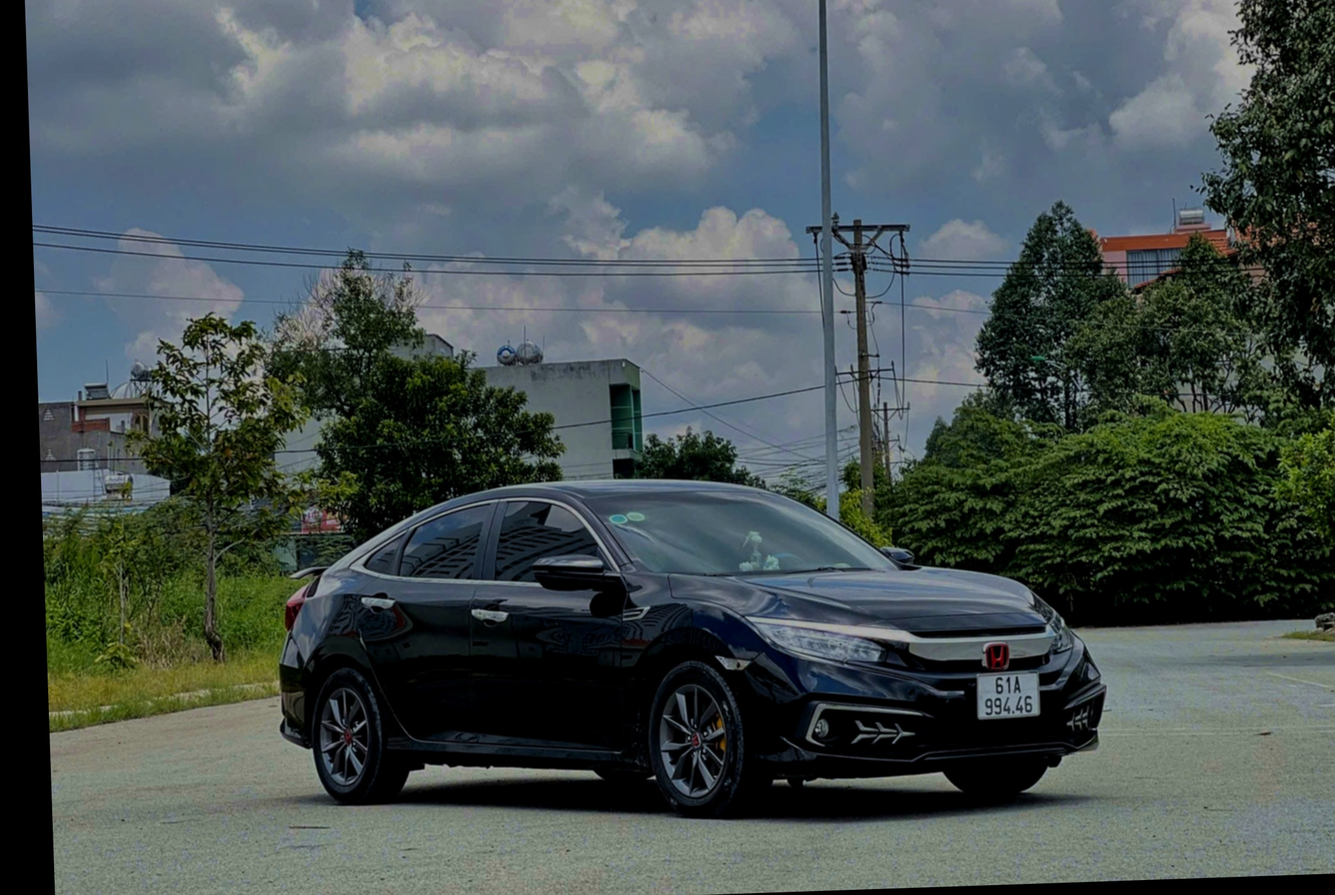Bien-so: (979, 671, 1039, 718)
